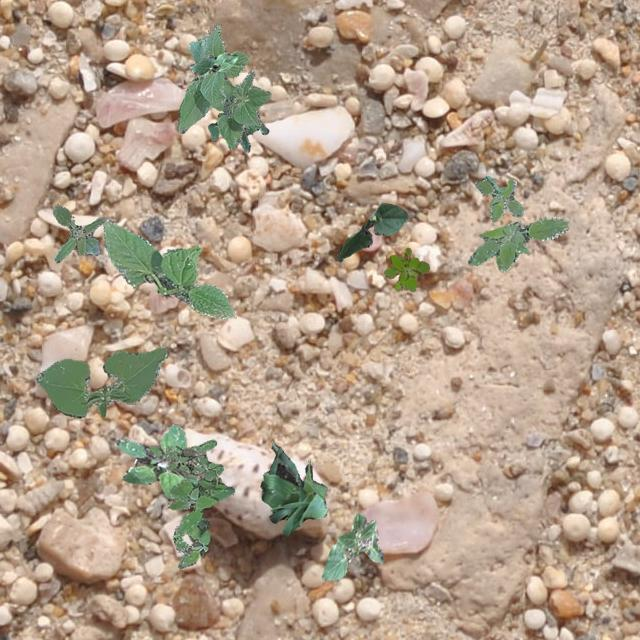crop: (102, 218, 234, 318), (176, 24, 270, 150), (34, 346, 168, 416), (260, 440, 326, 534), (321, 512, 384, 580), (336, 202, 406, 260), (188, 52, 238, 74)
weed: (164, 438, 233, 568), (114, 422, 198, 498), (468, 216, 566, 270), (52, 204, 102, 262), (473, 174, 522, 220), (206, 120, 268, 152), (382, 247, 428, 290)
